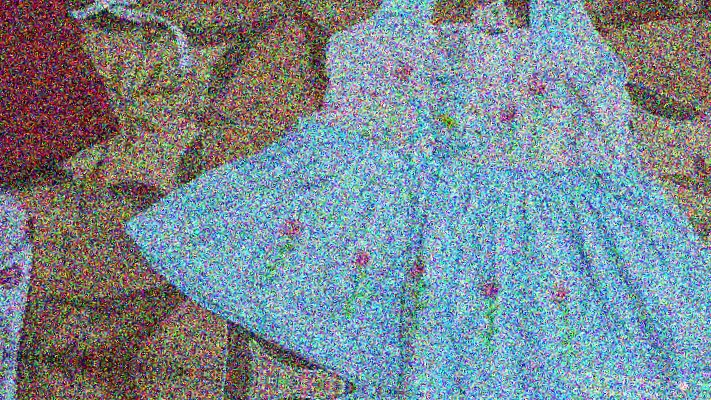Dress: (117, 0, 711, 400), (77, 368, 698, 400), (706, 10, 711, 400), (157, 0, 711, 2)
